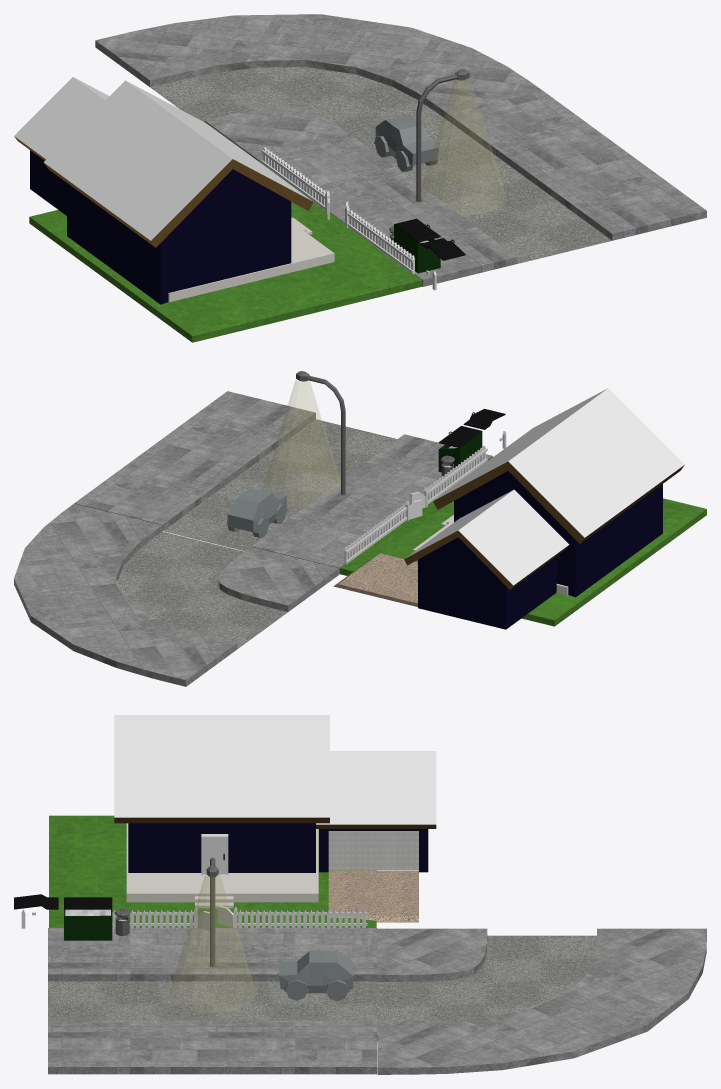
The model's file is street_assets.fbx.
3 renders of one model, top to bottom at view 1: azimuth 30°, elevation 25°; view 2: azimuth 150°, elevation 25°; view 3: azimuth 270°, elevation 25°, orthographic. The views are drawn at different scales.
Visible parts, largest first — view 1: Street, Street Curve, House Top, Grass, House Base, Light Cone, Garage Top, House Porch, Car, Garage Base, Fence, Fence.001 (+4 smaller); view 2: Street Curve, Street, House Top, Garage Top, Garage Base, Grass, House Base, Light Cone, Garage Street, Car, Fence.001, Fence (+4 smaller); view 3: Street, Street Curve, House Top, Grass, Garage Top, House Base, Light Cone, House Porch, Garage Base, Garage Street, Car, Fence.001 (+6 smaller).
Part boxes in pixels (box(x1,y1,x2,y2)): Street: box(259, 90, 706, 286); Street Curve: box(95, 14, 542, 160); House Top: box(43, 80, 313, 247); Grass: box(29, 161, 422, 342); House Base: box(67, 183, 291, 304); Light Cone: box(421, 78, 505, 215); Garage Top: box(14, 77, 109, 160); House Porch: box(168, 222, 334, 302); Car: box(374, 114, 439, 171); Garage Base: box(30, 150, 66, 215); Fence: box(347, 210, 414, 274); Fence.001: box(261, 147, 325, 209); Street Curve: box(14, 503, 339, 686); Street: box(74, 391, 492, 574); House Top: box(433, 388, 684, 543); Garage Top: box(404, 489, 569, 589); Garage Base: box(418, 556, 556, 629); Grass: box(340, 456, 706, 626); House Base: box(454, 484, 662, 597); Light Cone: box(262, 380, 340, 507); Garage Street: box(333, 553, 417, 606); Car: box(226, 488, 287, 537); Fence.001: box(344, 504, 406, 564); Fence: box(427, 446, 487, 504); Street: box(48, 928, 377, 1074); Street Curve: box(377, 928, 706, 1074); House Top: box(114, 715, 329, 823); Grass: box(49, 815, 376, 927); Garage Top: box(316, 751, 436, 828); House Base: box(128, 823, 315, 872); Light Cone: box(169, 874, 255, 1012); House Porch: box(126, 823, 318, 902); Garage Base: box(319, 829, 428, 872); Garage Street: box(328, 870, 418, 922); Car: box(279, 950, 353, 1000); Fence.001: box(237, 909, 367, 928).
Bounding box in the file's own units: 2211 × 581 × 2524.
